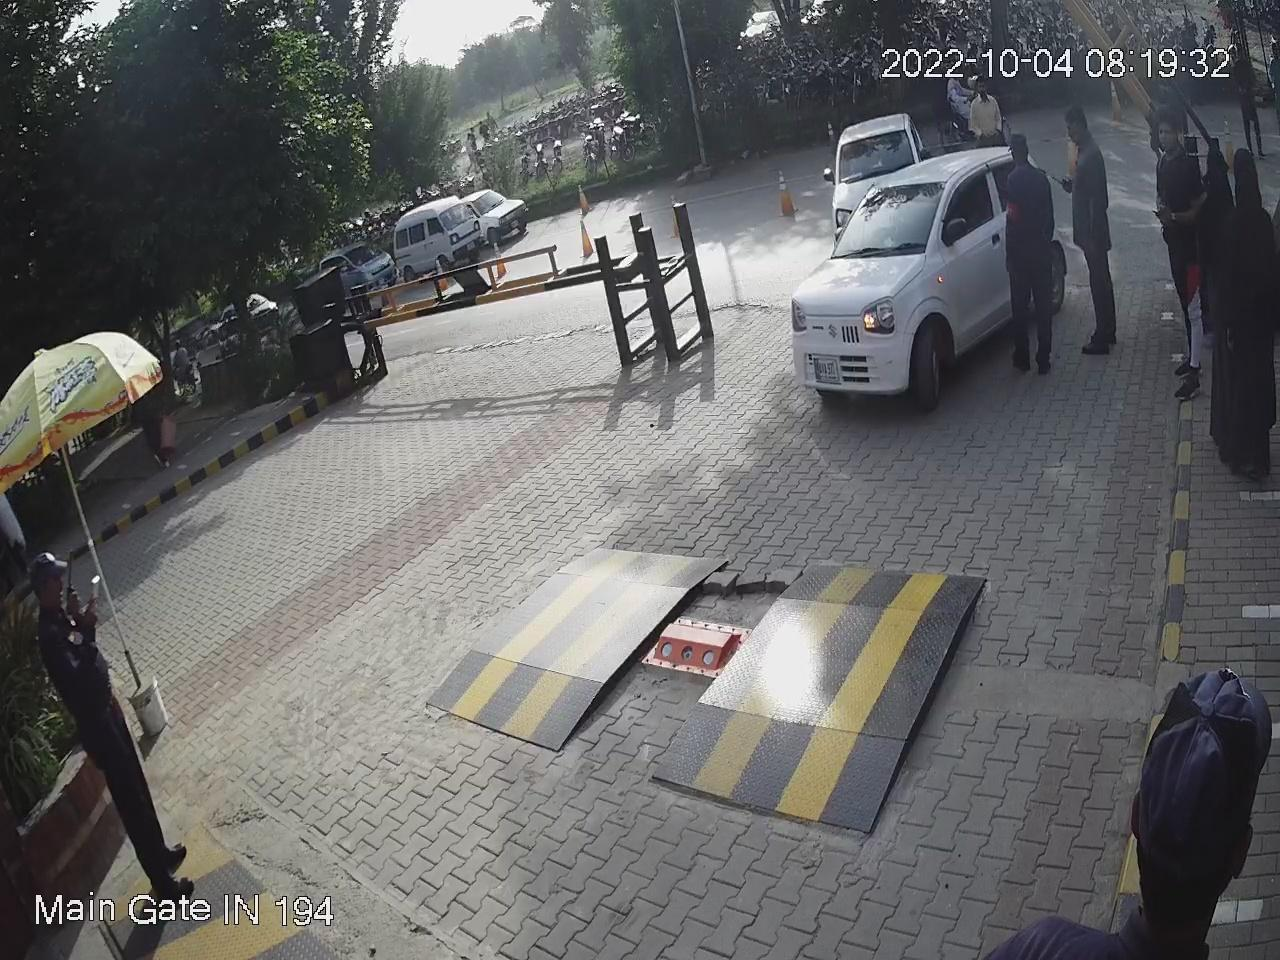windshield: (822, 175, 946, 267)
